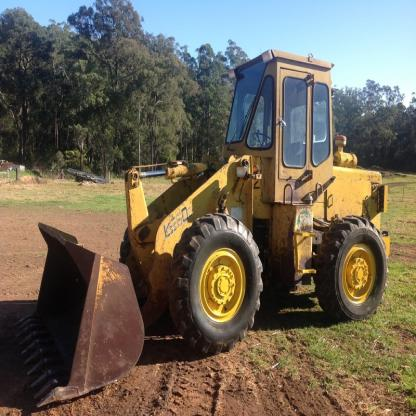bull_dozer/loader/grader: (15, 47, 391, 416)
